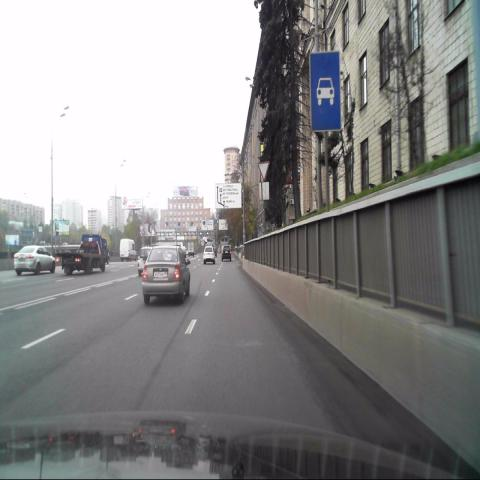5_3: (310, 52, 341, 129)
